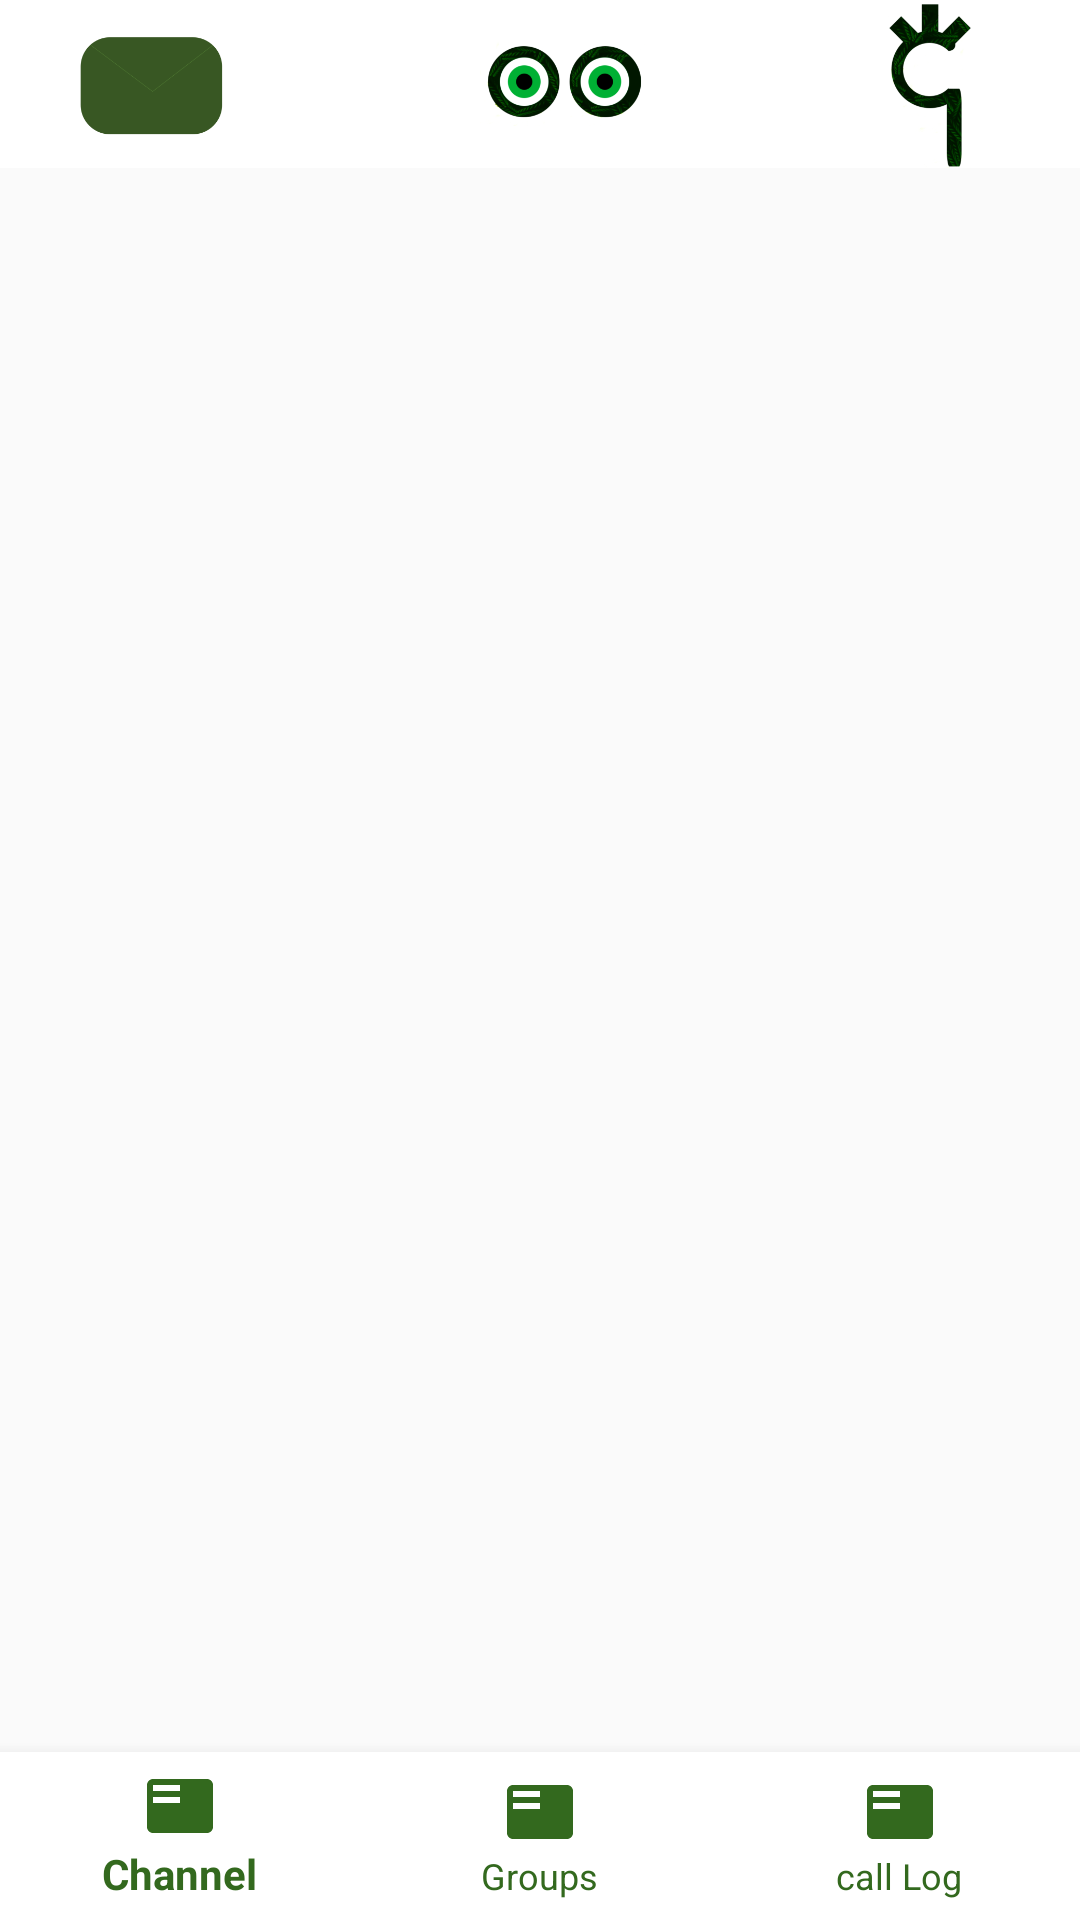

Screen size 1080w x 1920h. Icon name, then its center in pixels as (x,y):
lookaround: (564,82)
plugg: (930,85)
